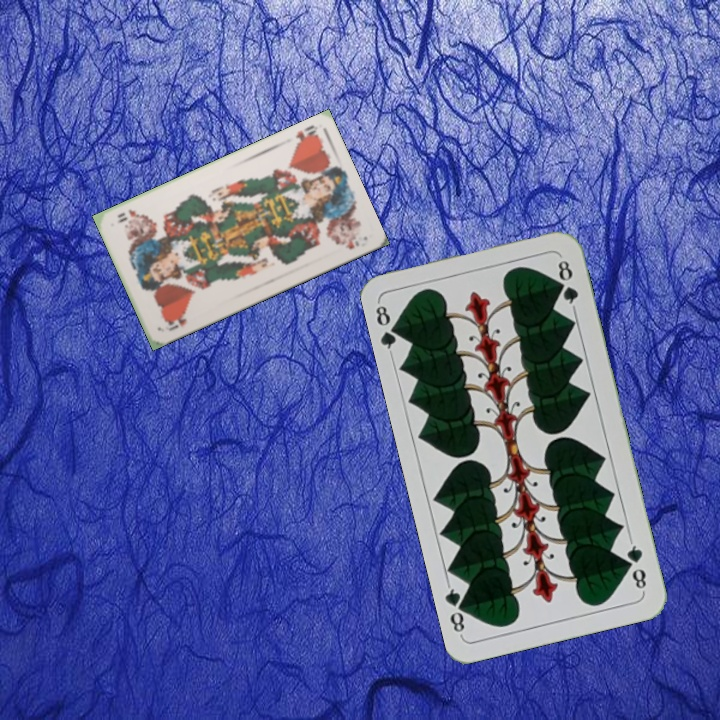G8: (371, 299, 405, 357), (622, 536, 649, 595)
HO: (290, 121, 321, 149), (161, 314, 189, 334)
